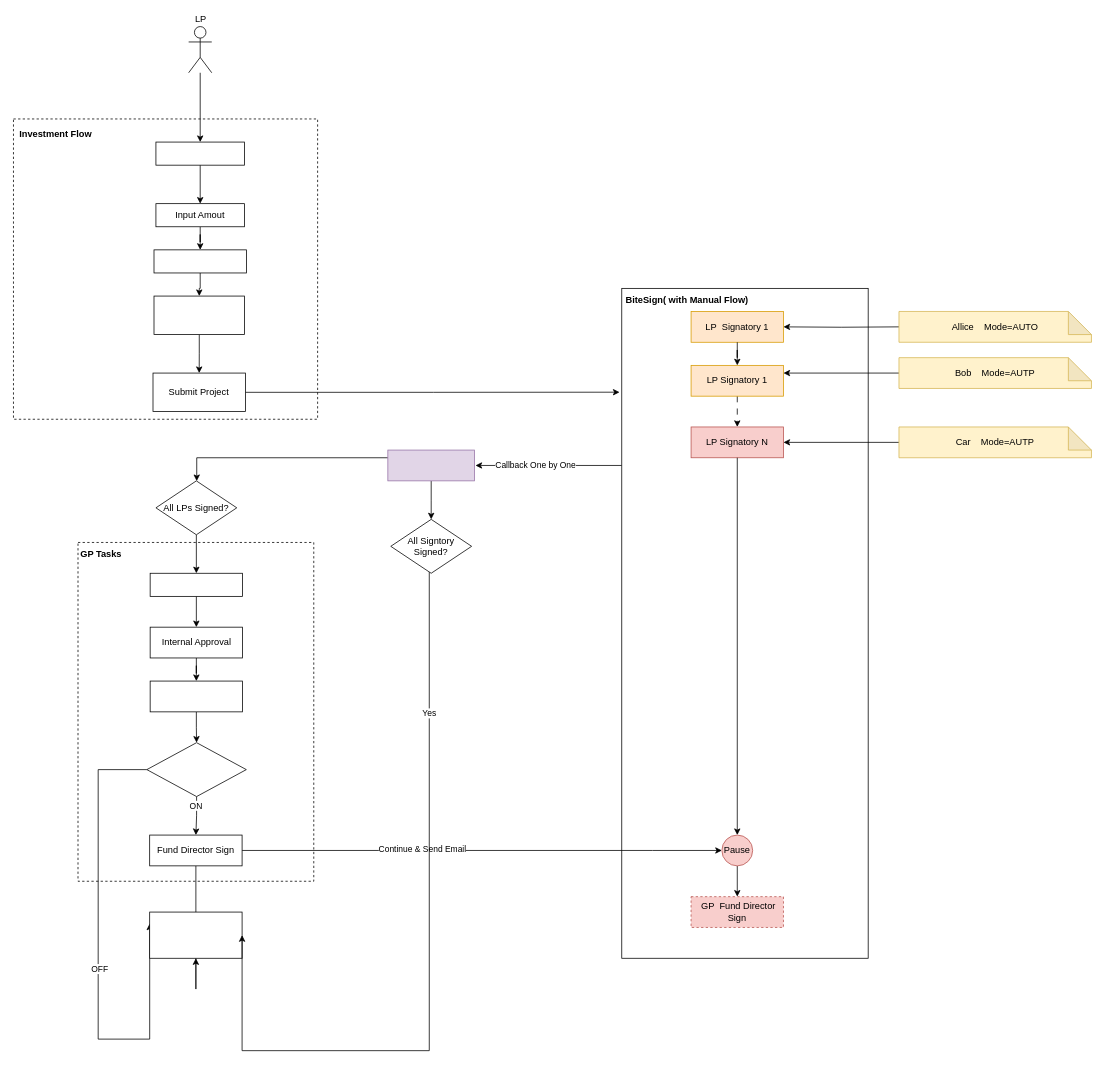
This 1105x1070 diagram has some shape labels left out. The centre of each missing label's shape, as x and y in pixels:
Captcal Call: pixel 195 934
Confirm Signtory & Files: pixel 198 315
Exteral Approval: pixel 196 696
Fund Director Sign Switch: pixel 196 769
Risk Rating: pixel 196 584
Select Profile: pixel 199 261
Select Project: pixel 199 153
Sign Callback Processors: pixel 430 465
